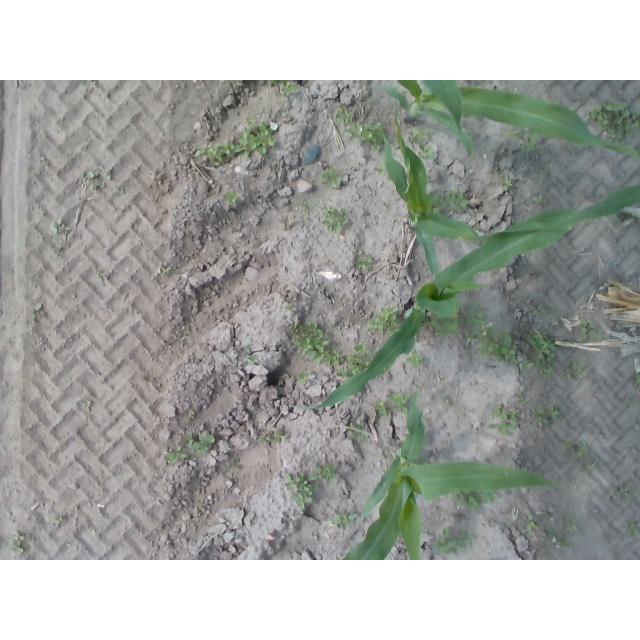Maize: (305, 184, 639, 409), (383, 101, 640, 279), (344, 392, 564, 560), (380, 80, 640, 160)
Weeds: (196, 118, 276, 166), (463, 299, 518, 365), (288, 319, 344, 366), (586, 101, 640, 142), (164, 429, 218, 468), (522, 320, 559, 375), (428, 525, 477, 555), (283, 471, 318, 512), (335, 339, 369, 375), (343, 122, 385, 151), (487, 403, 519, 437), (316, 204, 349, 236), (368, 306, 400, 334), (528, 401, 560, 428), (424, 315, 460, 338), (435, 189, 469, 212), (324, 509, 356, 531), (545, 526, 571, 551), (580, 319, 604, 346), (88, 170, 117, 190), (564, 359, 589, 382), (343, 419, 369, 441), (231, 346, 257, 367), (257, 428, 288, 445), (389, 389, 409, 415), (457, 494, 480, 515), (319, 168, 342, 189), (613, 485, 635, 506), (564, 439, 588, 458), (313, 465, 337, 484), (334, 106, 354, 127), (409, 124, 429, 144), (521, 512, 540, 532), (9, 533, 23, 559), (50, 216, 67, 237), (354, 253, 372, 271), (407, 352, 426, 369), (374, 399, 391, 418), (297, 196, 311, 219), (416, 144, 434, 161), (522, 131, 535, 154), (224, 190, 241, 207), (625, 519, 640, 537), (483, 492, 502, 506), (31, 303, 44, 323), (297, 371, 312, 386), (564, 519, 580, 533), (500, 129, 516, 143), (226, 458, 243, 471), (278, 84, 299, 94), (516, 394, 532, 407), (53, 514, 65, 531), (502, 174, 514, 191), (156, 264, 172, 276), (372, 162, 385, 176), (279, 304, 297, 314), (532, 195, 547, 205), (533, 303, 547, 313), (439, 399, 451, 410), (268, 80, 288, 86), (632, 371, 640, 385), (189, 411, 200, 421), (97, 275, 107, 285), (586, 462, 594, 474), (628, 394, 637, 404), (144, 375, 153, 382), (81, 80, 92, 85)
